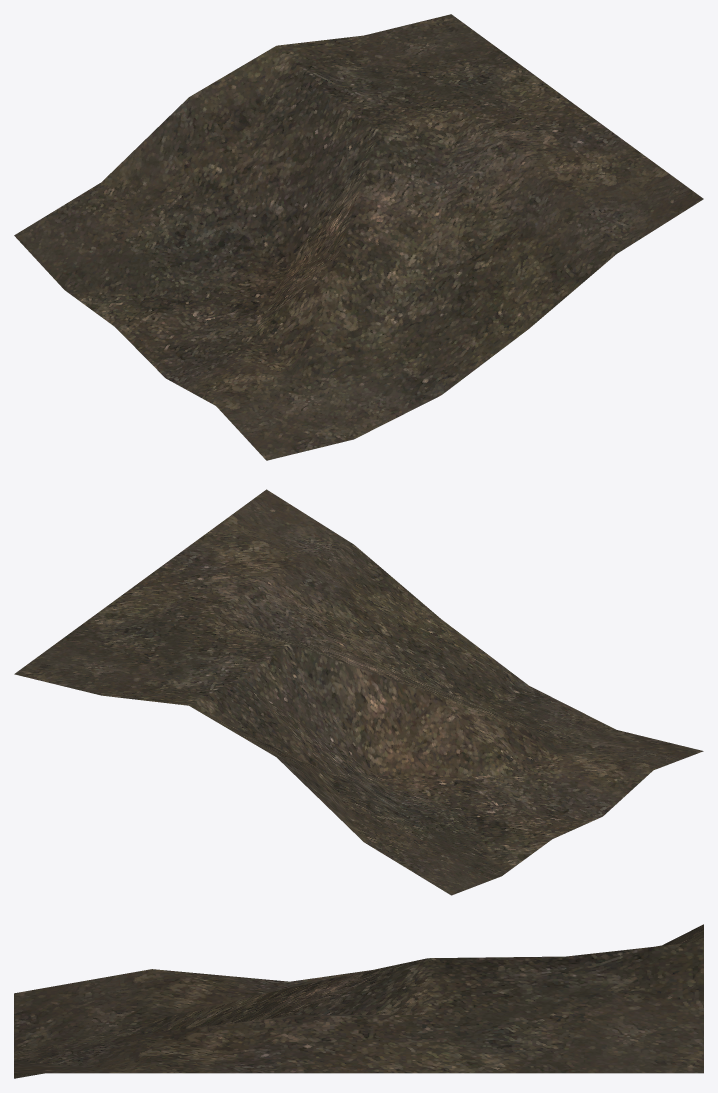
Rendered from blend_weeds05.fbx.
3 views of the same model, one above another, from view 1: azimuth 30°, elevation 25°; view 2: azimuth 150°, elevation 25°; view 3: azimuth 270°, elevation 25° (orthographic). The views are drawn at different scales.
Parts seen in each view (by area): view 1: New_terrain/weeds_shadow; view 2: New_terrain/weeds_shadow; view 3: New_terrain/weeds_shadow.
Part boxes in pixels (x1,y1,x2,y2): New_terrain/weeds_shadow: [14, 14, 703, 460]; New_terrain/weeds_shadow: [14, 489, 703, 895]; New_terrain/weeds_shadow: [14, 924, 703, 1078].
Bounding box in the file's own units: 12.5 × 4.54 × 12.5.
